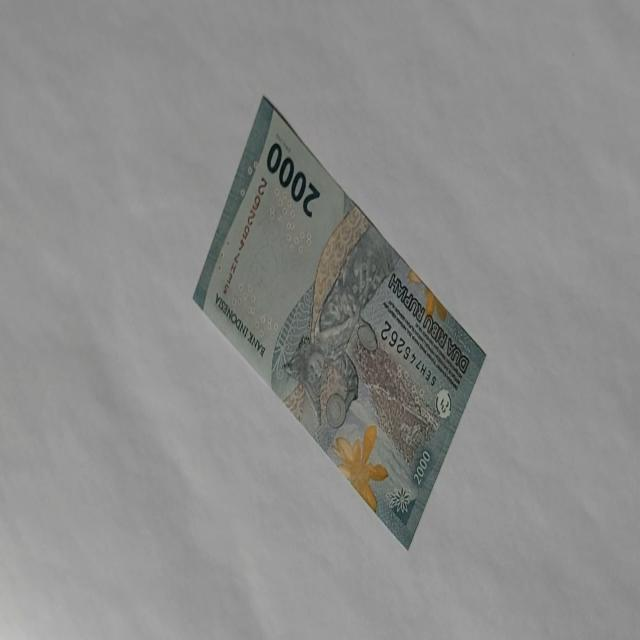dua ribu rupiah: (193, 94, 487, 550), (273, 202, 443, 482), (330, 422, 388, 513)
